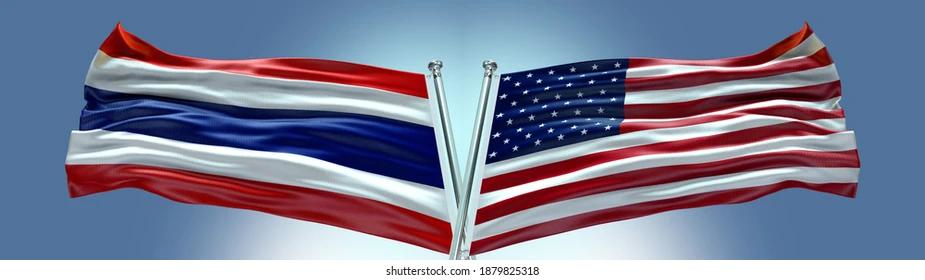America flag: (474, 22, 860, 256)
